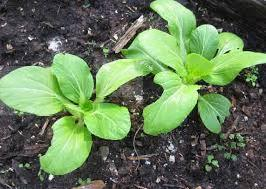Healthy-Pechay: (116, 2, 265, 134), (1, 54, 133, 174), (0, 67, 62, 115), (128, 29, 183, 75), (95, 58, 151, 100), (150, 0, 196, 47), (52, 53, 92, 106), (188, 24, 243, 60), (12, 66, 53, 88), (130, 57, 156, 76), (122, 47, 148, 62)
